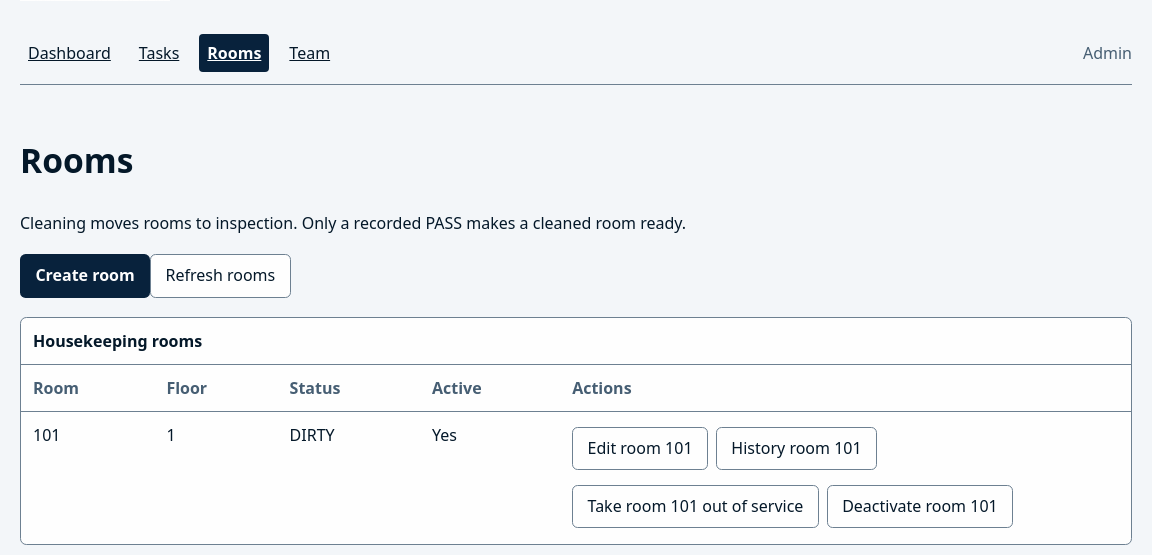
Test: Verified form and write safeguards › /rooms permits an explicit retry after confirmed 409 without read reconciliation
Click the button "Edit room 101": (640,449) [572,427,708,470]
(page scrolled)
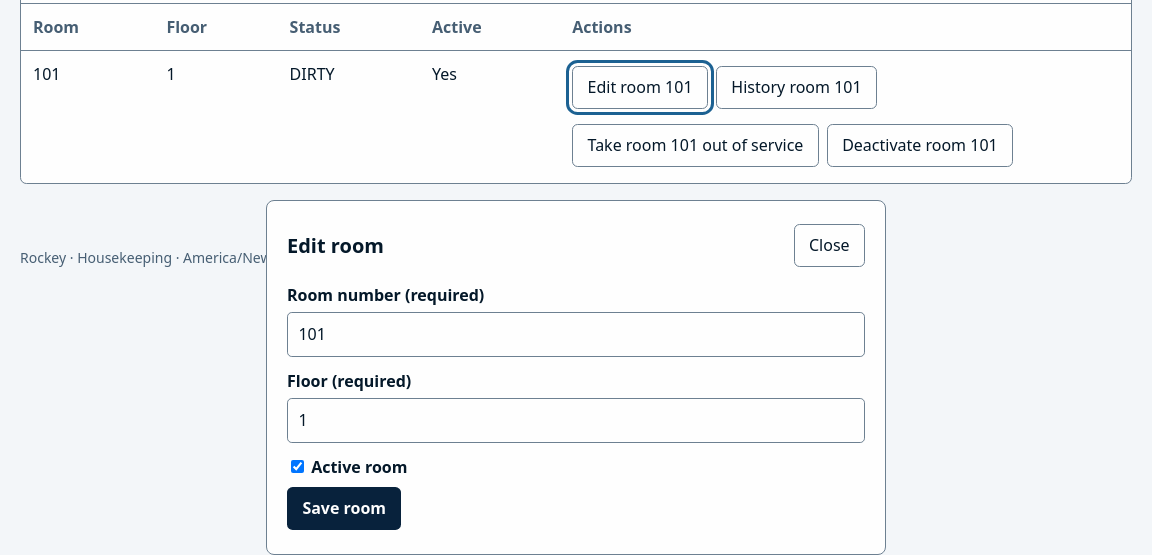
Click the button "Save room": (344,509) [287,487,402,530]
(page scrolled)
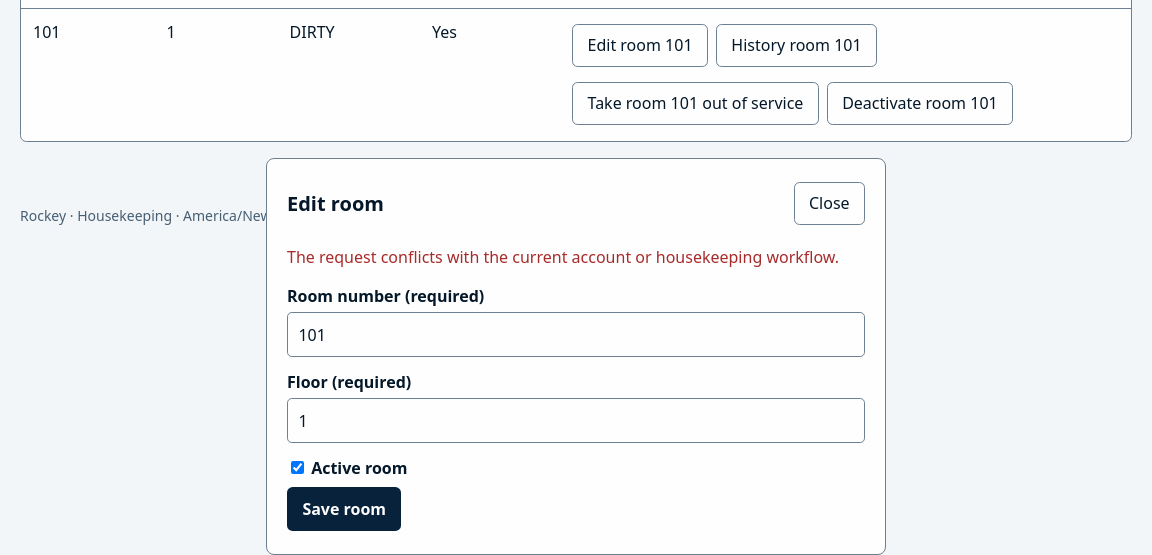
Check: the text "The request conflicts with the current account or housekeeping workflow." is shown, box [287,245,865,269]
Click the button "Save room": (344,509) [287,487,402,531]
(page scrolled)
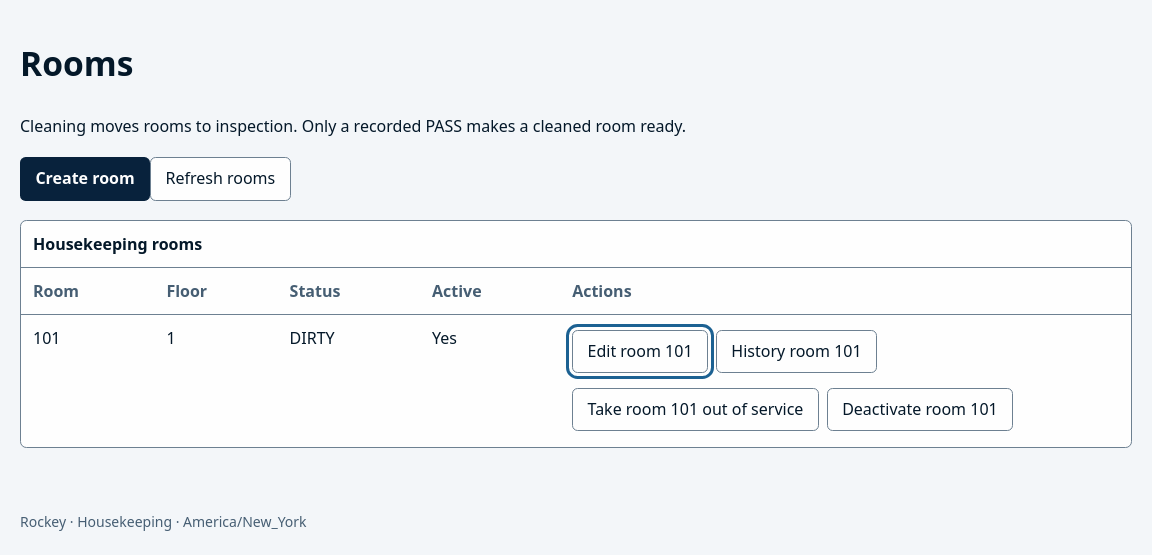
Check: the dialog is gone
